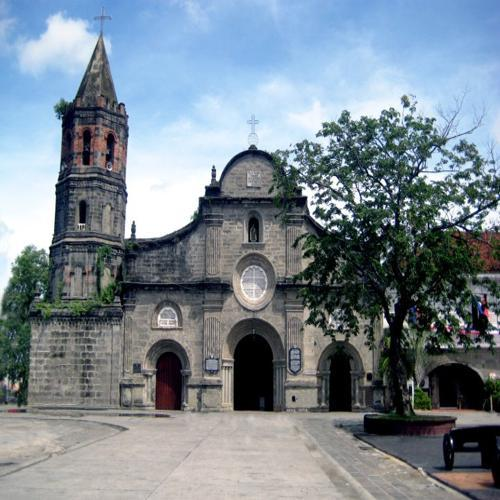Barasoain Church: (22, 7, 392, 420)
